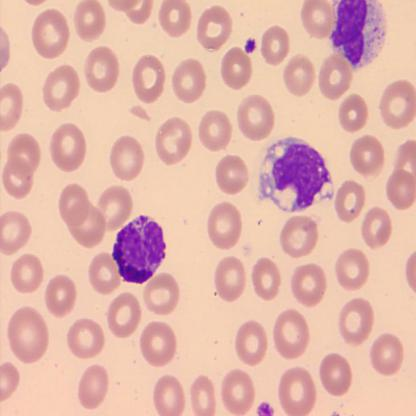Basophil: (257, 134, 336, 216), (111, 213, 169, 286)
